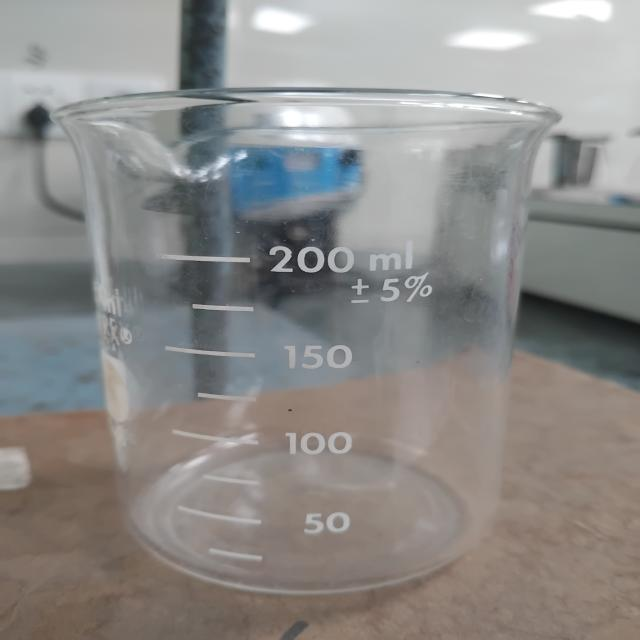Beaker: (34, 63, 592, 615)
